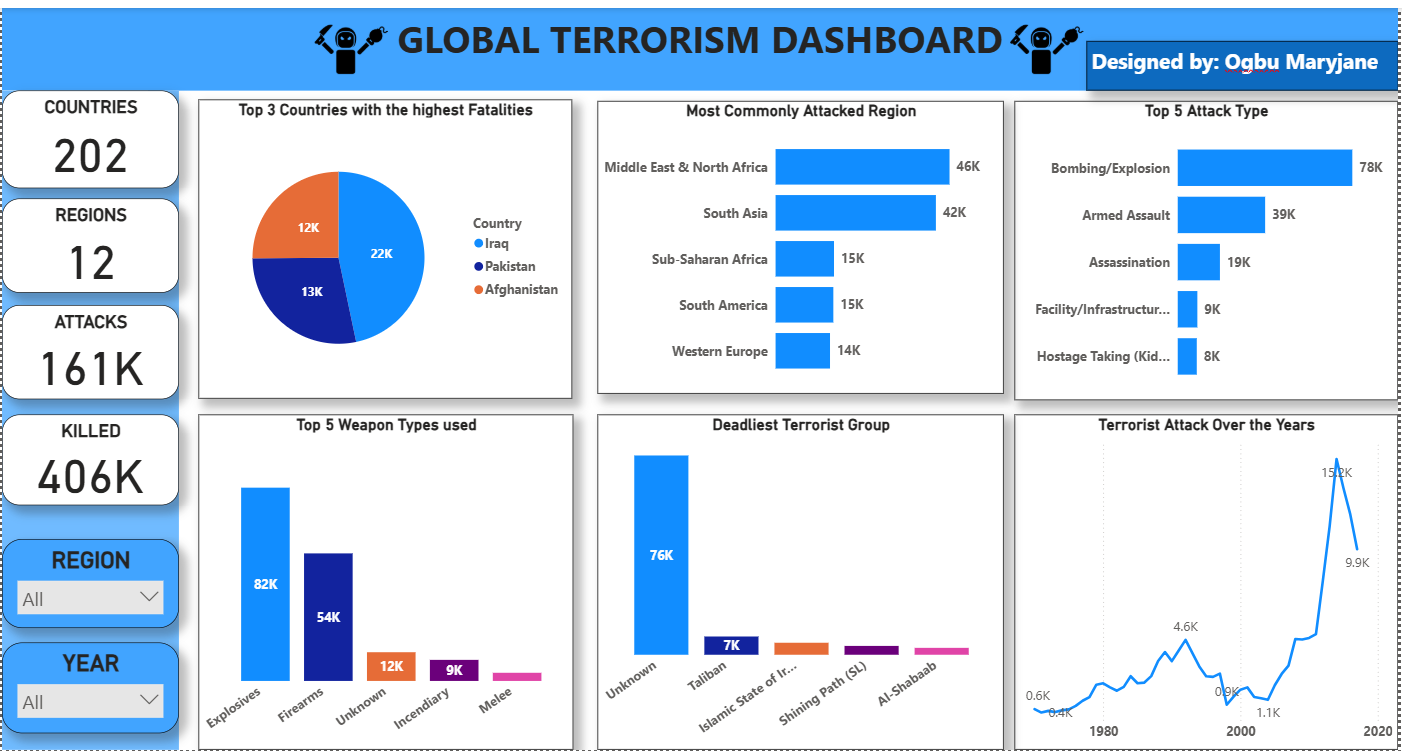

What the dashboard file says about the page in this screenshot:
{"tool":"powerbi","page":{"name":"Page 1","canvas":[1600,850],"ordinal":0},"visuals":[{"type":"pieChart","title":"Top 3 Countries with the highest Fatalities","fields":{"Category":["GLOBAL TERRORISM.Country"],"Y":["CountNonNull(GLOBAL TERRORISM.Confirmed_Fatalities)"]},"box":[225.2,104.1,427.8,342.6],"z":0},{"type":"barChart","title":"Top 5 Attack Type","fields":{"Category":["GLOBAL TERRORISM.Attack_type"],"Y":["CountNonNull(GLOBAL TERRORISM.Target_type)"]},"box":[1160.3,106,439.1,342.6],"z":1000},{"type":"columnChart","title":"Top 5 Weapon Types used","fields":{"Category":["GLOBAL TERRORISM.Weapon_type"],"Y":["CountNonNull(GLOBAL TERRORISM.Attack_type)"],"Series":["GLOBAL TERRORISM.Weapon_type"]},"box":[225.2,465.6,429.7,384.2],"z":2000},{"type":"lineChart","title":"Terrorist Attack Over the Years","fields":{"Y":["CountNonNull(GLOBAL TERRORISM.Attack_type)"],"Category":["GLOBAL TERRORISM.Year"]},"box":[1160.3,465.6,439.1,384.2],"z":3000},{"type":"actionButton","box":[0,0,100,40],"z":4000},{"type":"columnChart","title":"Deadliest Terrorist Group","fields":{"Category":["GLOBAL TERRORISM.Terrorist_Group"],"Y":["CountNonNull(GLOBAL TERRORISM.Attack_type)"],"Series":["GLOBAL TERRORISM.Terrorist_Group"]},"box":[681.4,465.6,465.6,384.2],"z":5000},{"type":"barChart","title":"Most Commonly Attacked Region","fields":{"Category":["GLOBAL TERRORISM.Region"],"Y":["CountNonNull(GLOBAL TERRORISM.Attack_type)"]},"box":[681.4,106,465.6,335],"z":6000},{"type":"textbox","box":[0,0,1599.8,94.5],"z":7000},{"type":"image","box":[1359.2,0,240.6,94.5],"z":8000},{"type":"image","box":[0,0,257.8,94.5],"z":9000},{"type":"card","box":[0,94.5,166.7,197.6],"z":10000},{"type":"textbox","box":[0,94.6,202.5,755.2],"z":11000},{"type":"card","title":"COUNTRIES","fields":{"Values":["GLOBAL TERRORISM.Totalcountries"]},"box":[0,94.6,202.5,111.7],"z":12000},{"type":"card","title":"REGIONS","fields":{"Values":["GLOBAL TERRORISM.TotalRegion"]},"box":[0,218.2,202.8,108.3],"z":13000},{"type":"card","title":"ATTACKS","fields":{"Values":["GLOBAL TERRORISM.Totalnumberofattacks"]},"box":[0,340.7,202.5,107.9],"z":14000},{"type":"slicer","title":"YEAR","fields":{"Values":["GLOBAL TERRORISM.Year"]},"box":[0,726.8,202.5,104.1],"z":14001},{"type":"card","title":"KILLED","fields":{"Values":["GLOBAL TERRORISM.Totalkilled"]},"box":[0,465.6,202.5,104.1],"z":14002},{"type":"slicer","title":"REGION","fields":{"Values":["GLOBAL TERRORISM.Region"]},"box":[0,607.6,202.5,102.2],"z":14003}]}

Visuals, with their boxes in screenshot pixels (x1, y1, x2, y2), scaled from the page's 1600x850 canvas onto the 1402x751 screenshot:
"Top 3 Countries with the highest Fatalities" pieChart: {"left": 197, "top": 92, "right": 572, "bottom": 395}
"Top 5 Attack Type" barChart: {"left": 1017, "top": 94, "right": 1401, "bottom": 396}
"Top 5 Weapon Types used" columnChart: {"left": 197, "top": 411, "right": 574, "bottom": 750}
"Terrorist Attack Over the Years" lineChart: {"left": 1017, "top": 411, "right": 1401, "bottom": 750}
actionButton: {"left": 0, "top": 0, "right": 88, "bottom": 35}
"Deadliest Terrorist Group" columnChart: {"left": 597, "top": 411, "right": 1005, "bottom": 750}
"Most Commonly Attacked Region" barChart: {"left": 597, "top": 94, "right": 1005, "bottom": 390}
textbox: {"left": 0, "top": 0, "right": 1401, "bottom": 83}
image: {"left": 1191, "top": 0, "right": 1401, "bottom": 83}
image: {"left": 0, "top": 0, "right": 226, "bottom": 83}
card: {"left": 0, "top": 83, "right": 146, "bottom": 258}
textbox: {"left": 0, "top": 84, "right": 177, "bottom": 750}
"COUNTRIES" card: {"left": 0, "top": 84, "right": 177, "bottom": 182}
"REGIONS" card: {"left": 0, "top": 193, "right": 178, "bottom": 288}
"ATTACKS" card: {"left": 0, "top": 301, "right": 177, "bottom": 396}
"YEAR" slicer: {"left": 0, "top": 642, "right": 177, "bottom": 734}
"KILLED" card: {"left": 0, "top": 411, "right": 177, "bottom": 503}
"REGION" slicer: {"left": 0, "top": 537, "right": 177, "bottom": 627}
